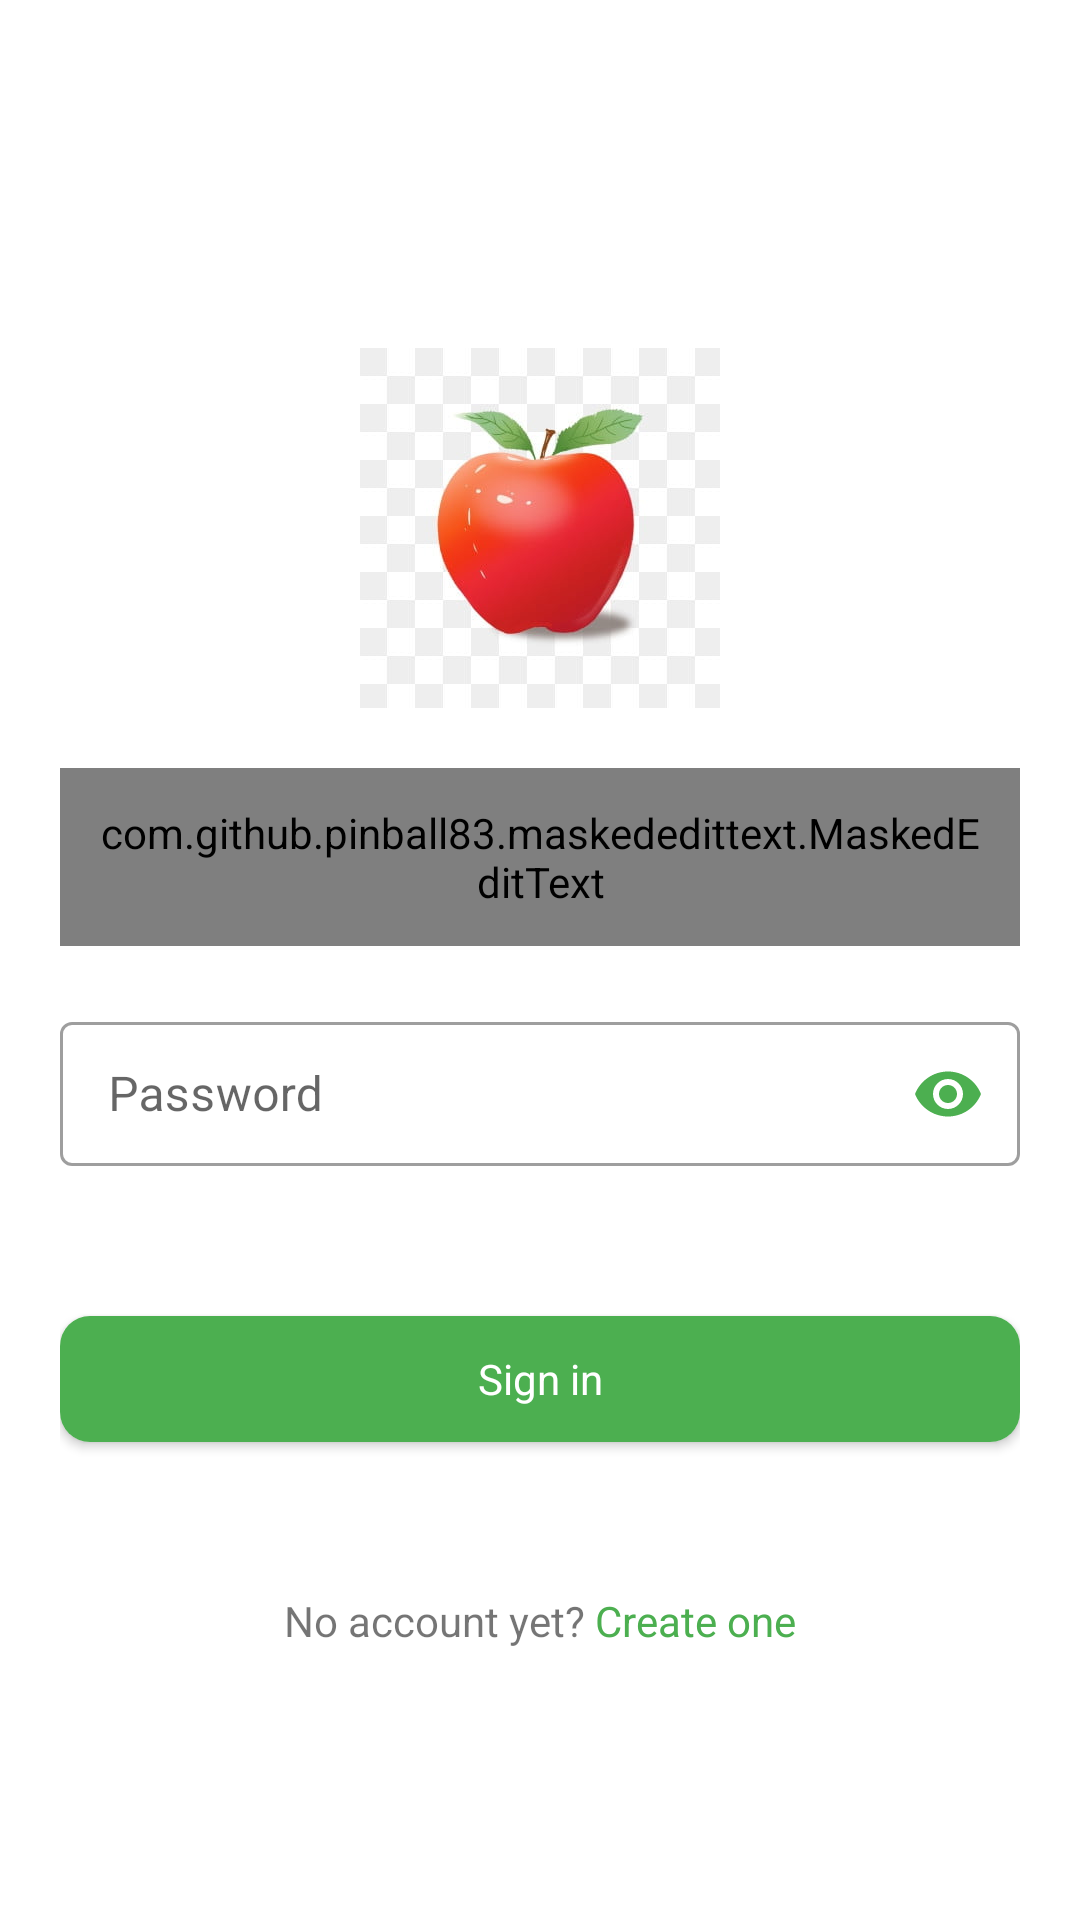

Icons on this 1080 x 1920 Android screen, each with the point to tap as point (x, y):
apple: point (540, 524)
